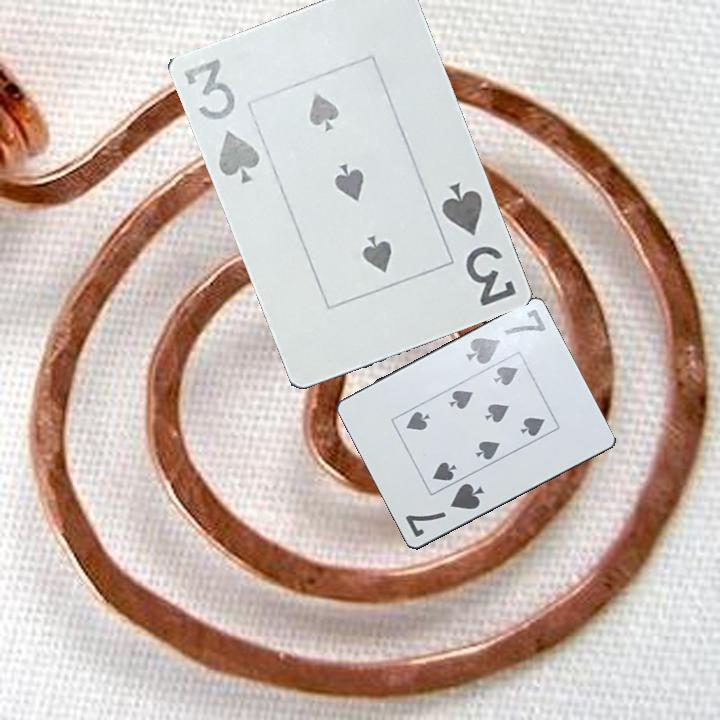3s: (179, 55, 263, 187), (437, 178, 519, 309)
7s: (462, 306, 549, 371), (401, 480, 487, 541)
